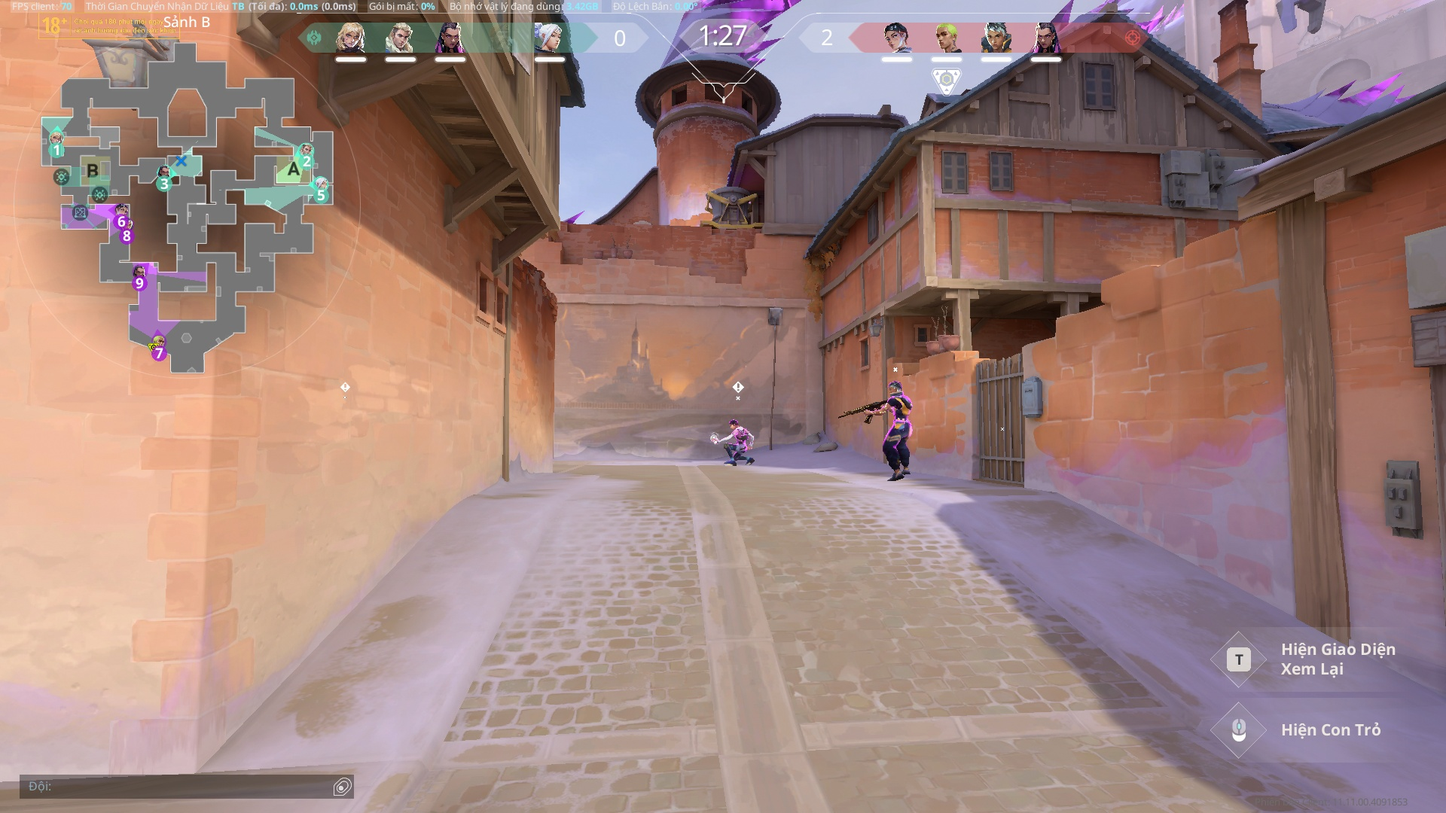body: (887, 396, 914, 423), (731, 429, 754, 445)
head: (886, 379, 900, 393), (726, 419, 740, 429)
